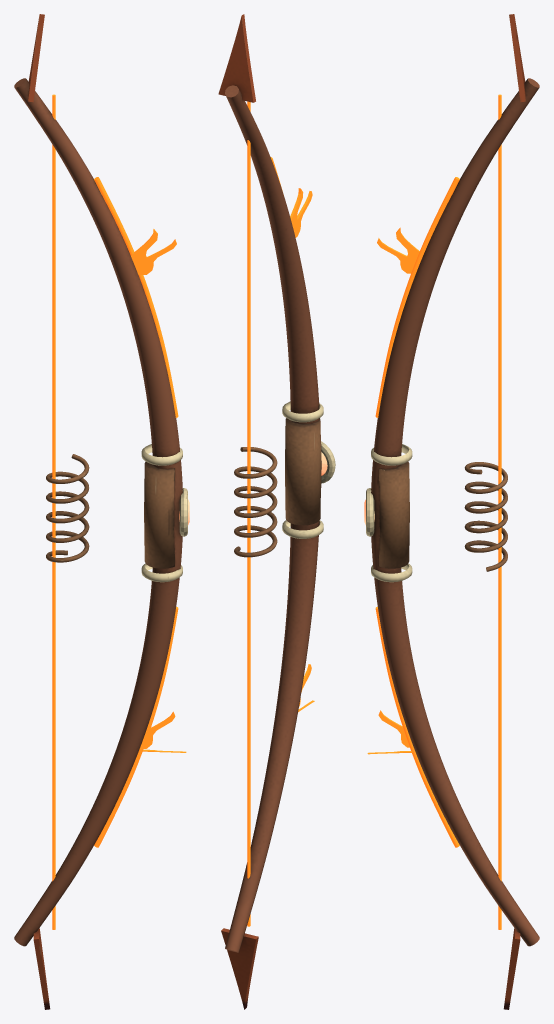
The model's file is arma_lend_arco_fogo.glb.
3 views of the same model, side by side, from view 1: azimuth 90°, elevation 25°; view 2: azimuth 150°, elevation 25°; view 3: azimuth 270°, elevation 25° (orthographic).
Parts seen in each view (by area): view 1: arma_lend_arco_fogo, corda, filete1, filete-1, ac_arco10; view 2: arma_lend_arco_fogo, corda; view 3: arma_lend_arco_fogo, corda, filete1, filete-1.
Boxes of the visible parts, left/top/right/bottom form: arma_lend_arco_fogo: left=14, top=14, right=187, bottom=1009; corda: left=52, top=94, right=55, bottom=929; filete1: left=94, top=177, right=178, bottom=417; filete-1: left=94, top=607, right=178, bottom=847; ac_arco10: left=134, top=239, right=176, bottom=274; arma_lend_arco_fogo: left=218, top=14, right=335, bottom=1009; corda: left=247, top=101, right=250, bottom=926; arma_lend_arco_fogo: left=366, top=14, right=539, bottom=1009; corda: left=498, top=94, right=501, bottom=929; filete1: left=375, top=177, right=459, bottom=417; filete-1: left=375, top=607, right=459, bottom=847.
Bounding box in the file's own units: 0.0728 × 1.62 × 0.2593.
9 materials, 1 textured.
